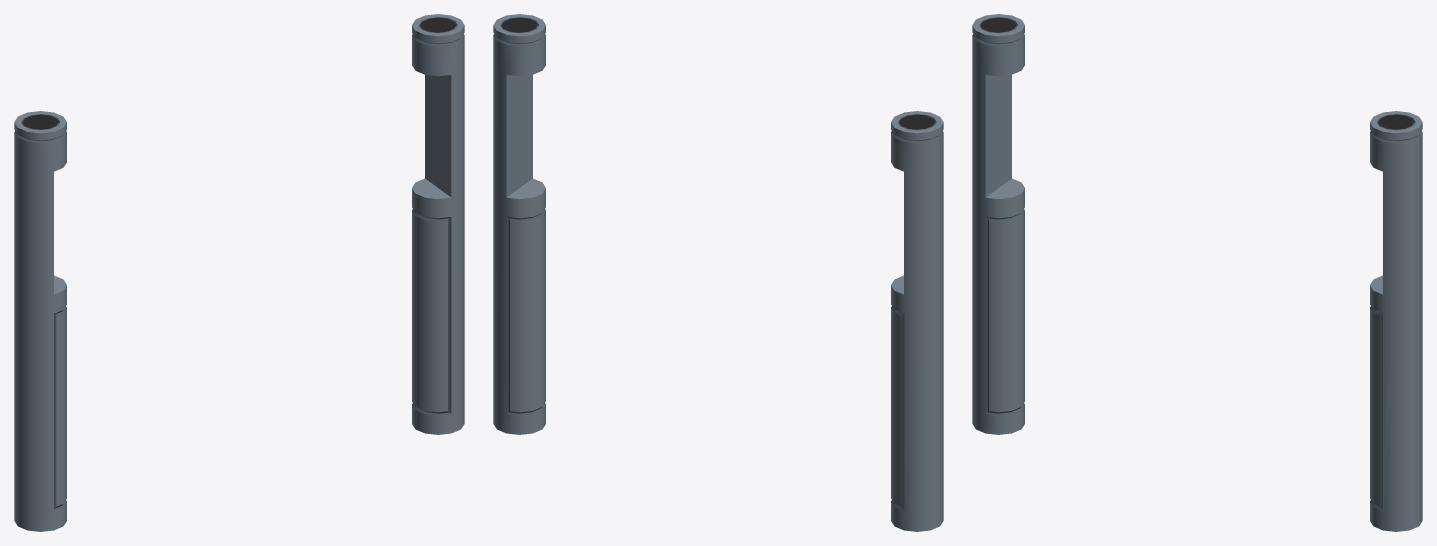
File: SM_Props_Supermarket_01.fbx
The picture shows the model from 3 angles, left to right: view 1: azimuth 30°, elevation 25°; view 2: azimuth 150°, elevation 25°; view 3: azimuth 330°, elevation 25°; orthographic projection.
Visible parts, largest first — view 1: SM_Props_Supermarket_01; view 2: SM_Props_Supermarket_01; view 3: SM_Props_Supermarket_01.
Boxes of the visible parts, left/top/right/bottom form: SM_Props_Supermarket_01: left=14, top=14, right=464, bottom=531; SM_Props_Supermarket_01: left=493, top=14, right=943, bottom=531; SM_Props_Supermarket_01: left=972, top=14, right=1422, bottom=531.
Bounding box in the file's own units: 1.11 × 0.9556 × 0.1146.
